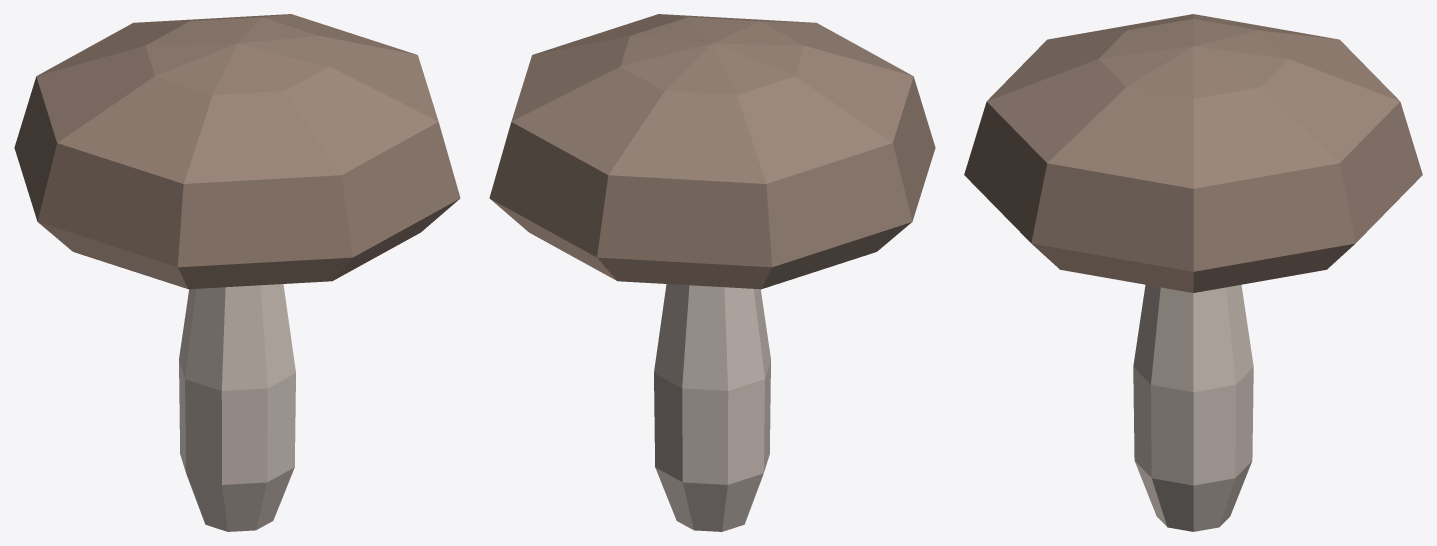
The model's file is Mushroom_13.fbx.
3 views of the same model, side by side, from view 1: azimuth 30°, elevation 25°; view 2: azimuth 150°, elevation 25°; view 3: azimuth 270°, elevation 25° (orthographic).
Visible parts, largest first — view 1: Mushroom_13; view 2: Mushroom_13; view 3: Mushroom_13.
Part boxes in pixels (bbox=[...]): Mushroom_13: bbox=[14, 14, 460, 531]; Mushroom_13: bbox=[489, 14, 935, 531]; Mushroom_13: bbox=[964, 14, 1422, 531].
Size of the model in its own units: 39.06 by 44.17 by 39.06.
